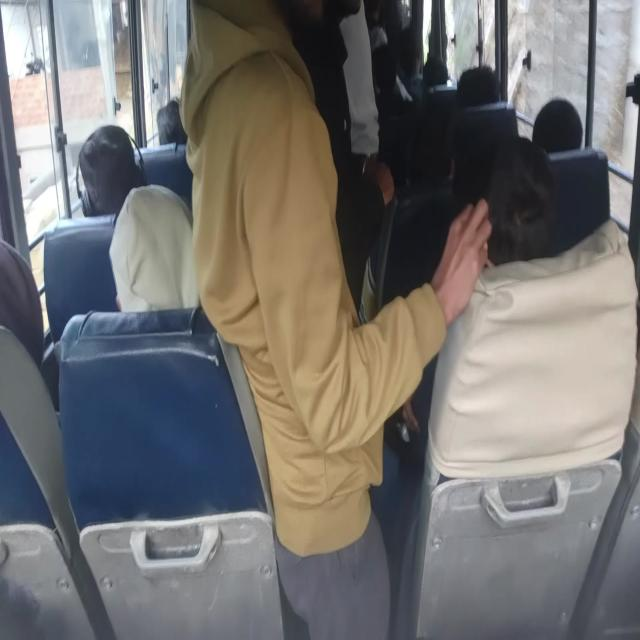person: (178, 0, 493, 638), (108, 182, 200, 312), (484, 134, 559, 266), (76, 123, 145, 218), (531, 96, 583, 154)
